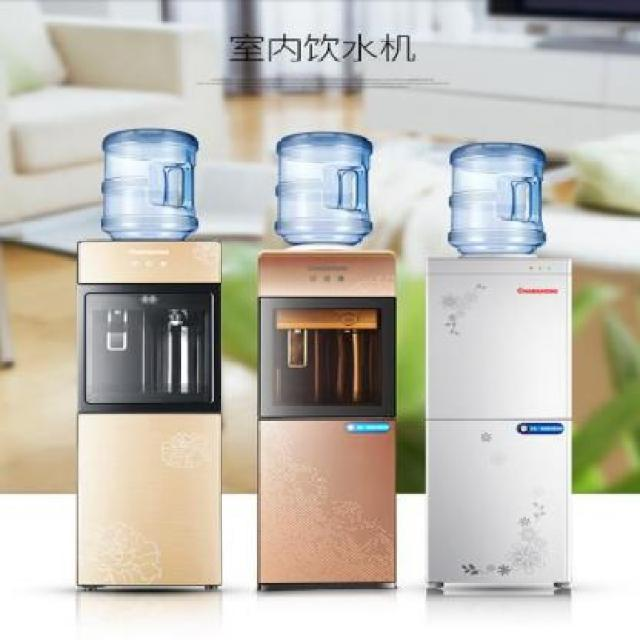coolerbottle: (98, 123, 202, 242), (276, 126, 376, 248), (448, 142, 549, 256)
